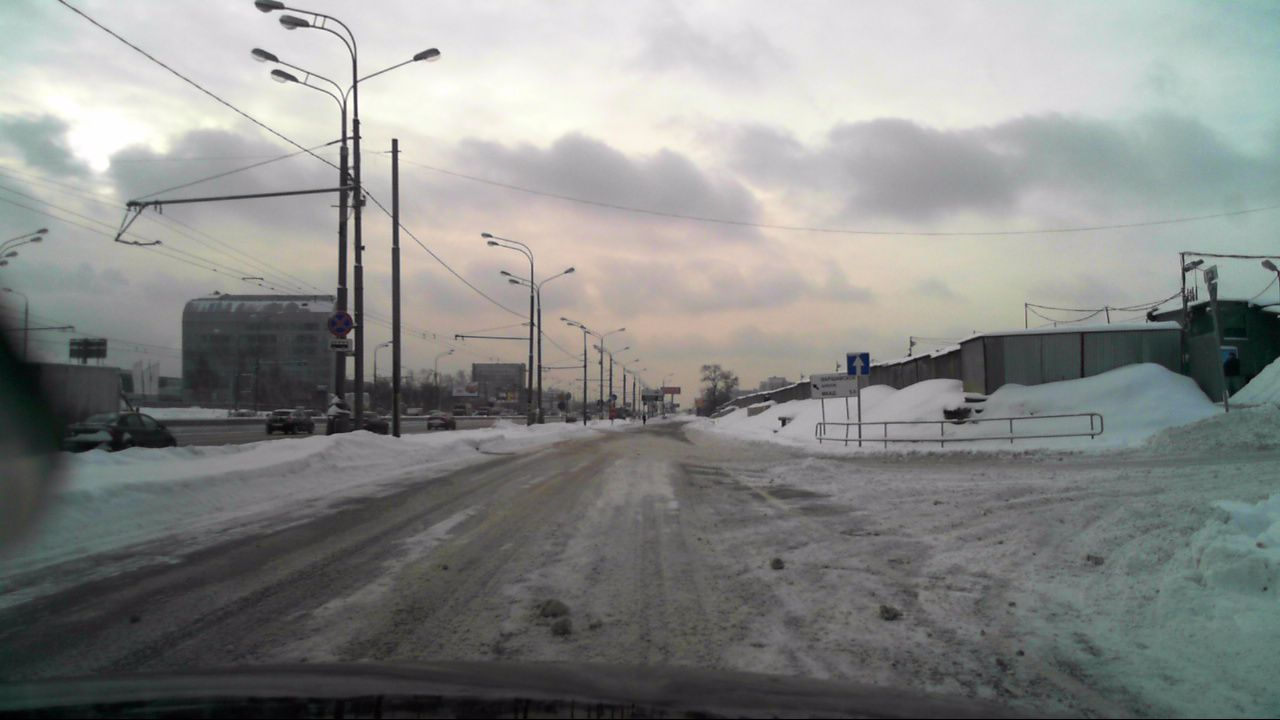No Parking: (326, 313, 355, 337)
